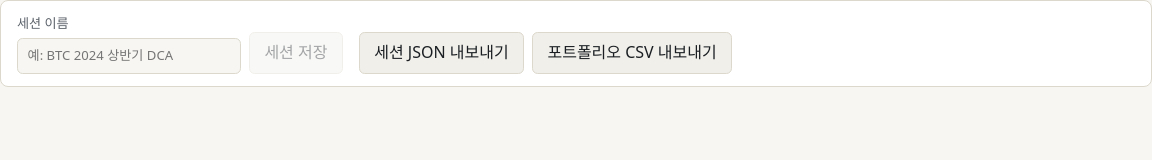
Test case: SessionActions › 이름을 입력하고 저장하면 세션 저장소에 기록되고 성공 메시지가 뜬다
The width and height of the screenshot is (1152, 160).
Type "내 세션" into the field labelled "세션 이름". click: (129, 56)
box: [17, 38, 241, 74]
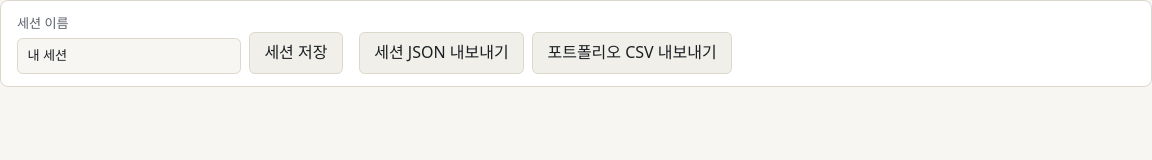
Click the button "세션 저장". click: (296, 53)
box: [249, 32, 343, 74]
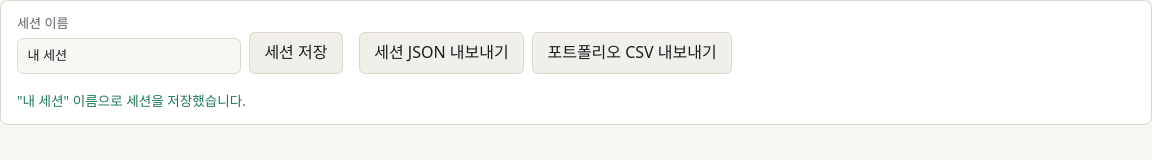
Result: the message shows "내 세션" at [17, 91, 246, 110]
